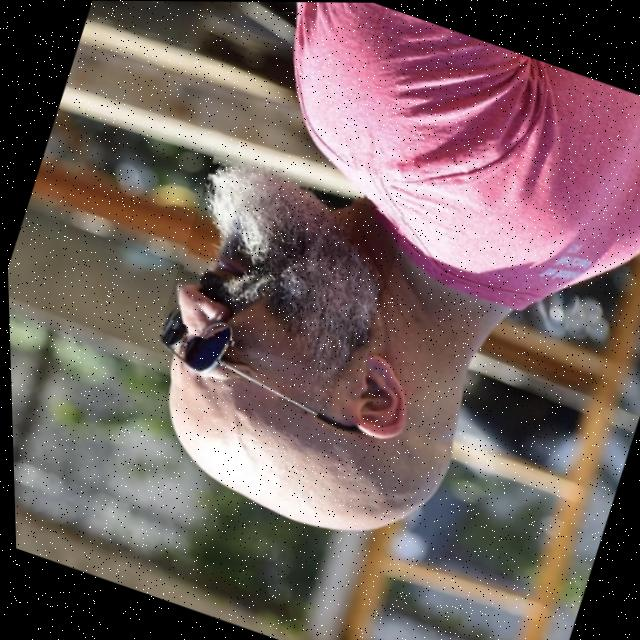beard: (200, 164, 380, 376)
